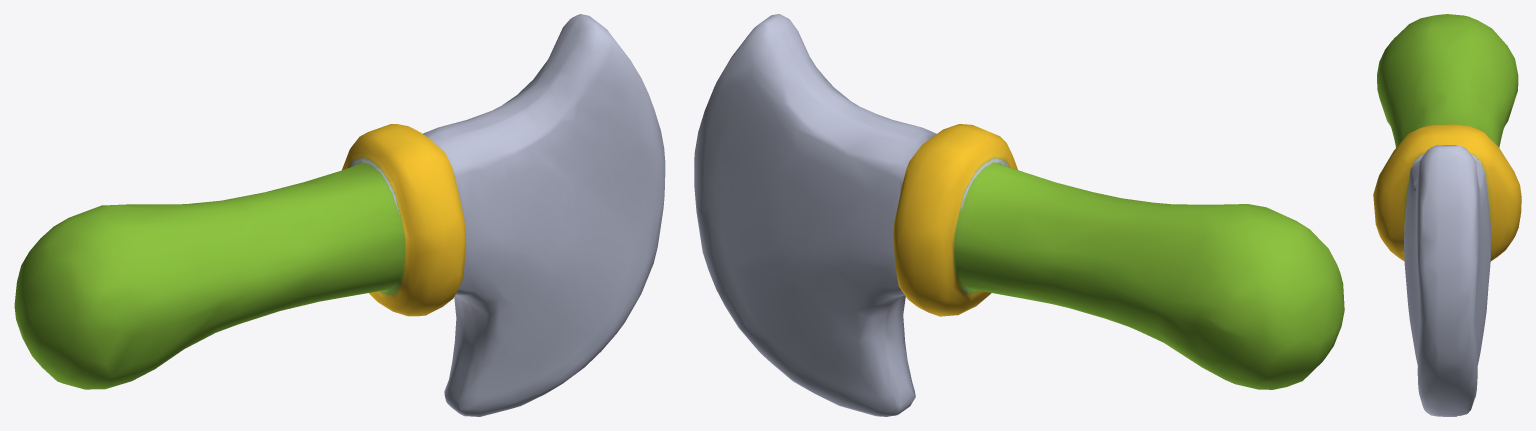
Rendered from axe.glb.
3 views of the same model, side by side, from view 1: azimuth 30°, elevation 25°; view 2: azimuth 150°, elevation 25°; view 3: azimuth 270°, elevation 25° (orthographic). The views are drawn at different scales.
Parts seen in each view (by area): view 1: tripo_node_988fbff7-93fd-4aaa-97a2-359cdf981273; view 2: tripo_node_988fbff7-93fd-4aaa-97a2-359cdf981273; view 3: tripo_node_988fbff7-93fd-4aaa-97a2-359cdf981273.
Part boxes in pixels (x1=…): tripo_node_988fbff7-93fd-4aaa-97a2-359cdf981273: x1=14, y1=14, x2=665, y2=416; tripo_node_988fbff7-93fd-4aaa-97a2-359cdf981273: x1=694, y1=14, x2=1344, y2=416; tripo_node_988fbff7-93fd-4aaa-97a2-359cdf981273: x1=1373, y1=14, x2=1521, y2=416.
Size of the model in its own units: 0.9799 by 0.5497 by 0.2485.
Materials: 1 (1 with a texture image).
